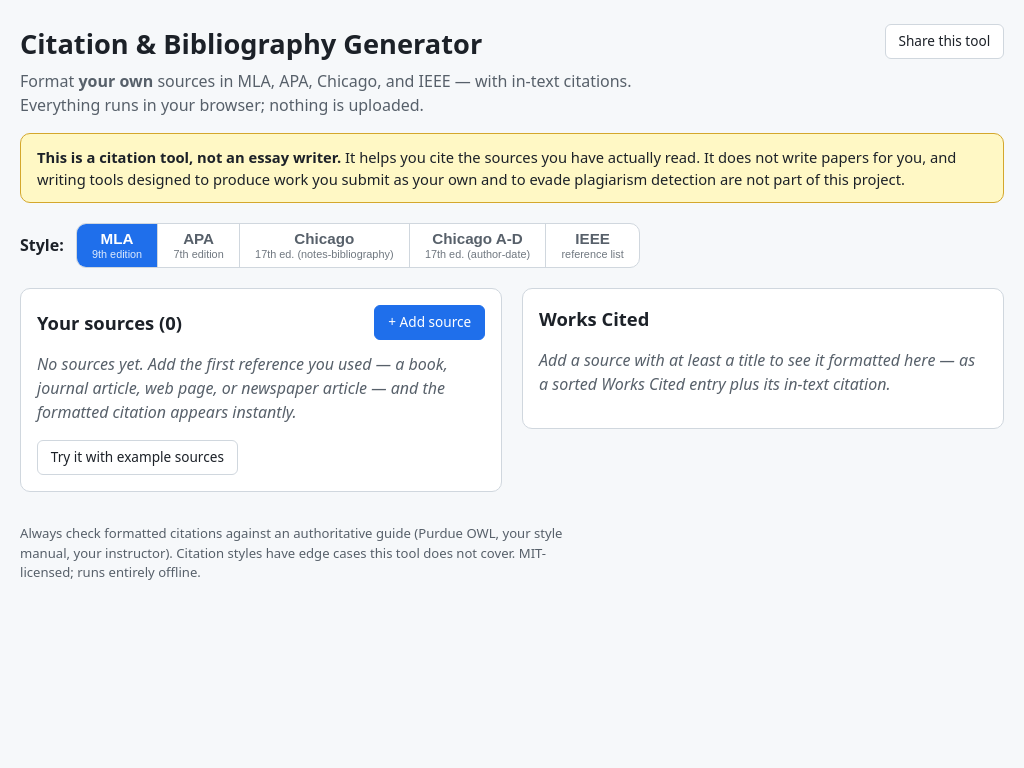
Test: App › labels Chicago NB citations as footnotes
Click the button "Try it with example sources" at (137, 458), box [37,440,238,475]
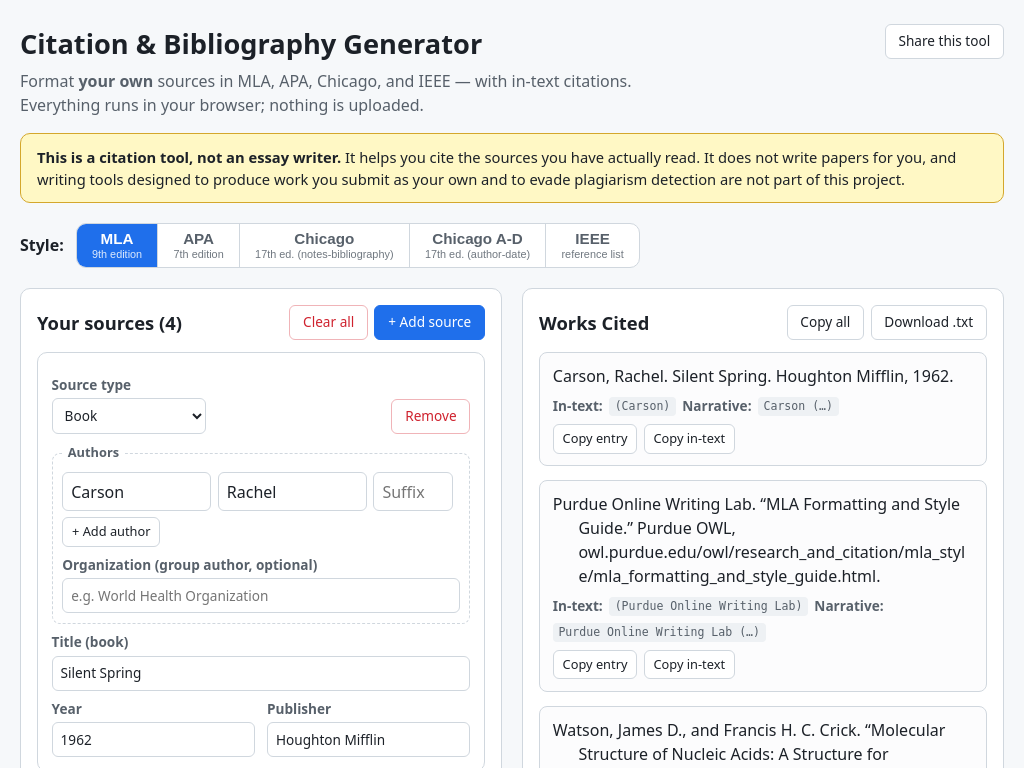
Click the radio button labelled "Chicago 17th ed. (notes-bibliography)" at (325, 245), box [240,224,410,267]
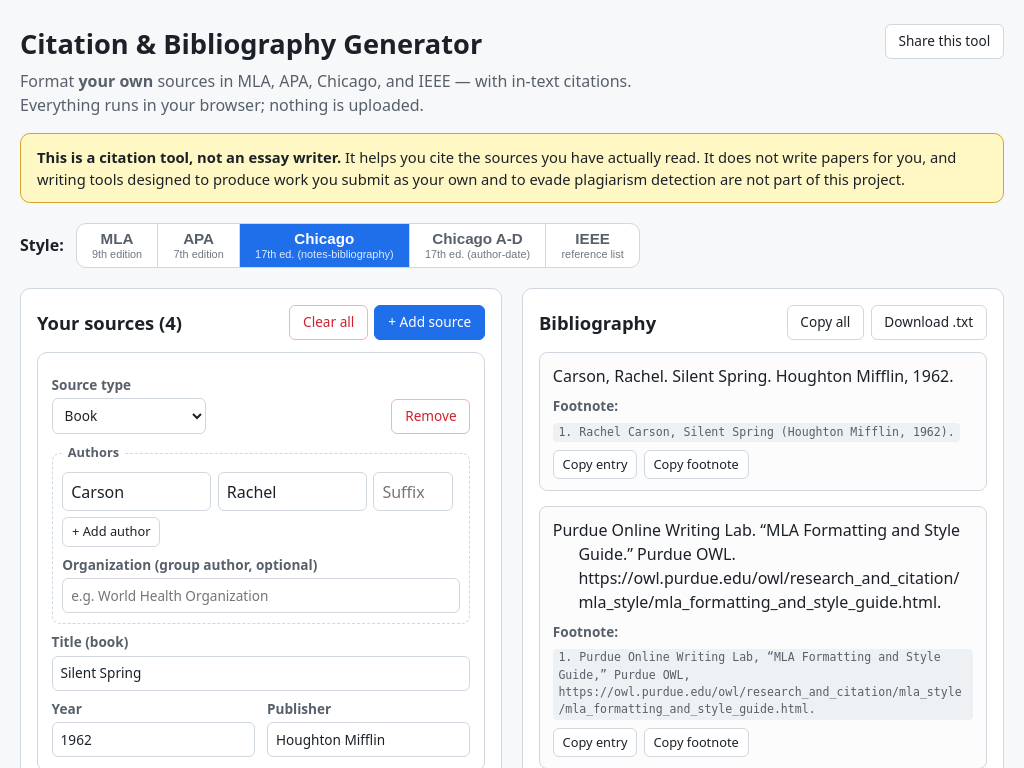
Now the 1st text "Footnote:" is shown, box [553,396,618,416]
Now the 1st button "Copy footnote" is shown, box [644,450,748,479]
